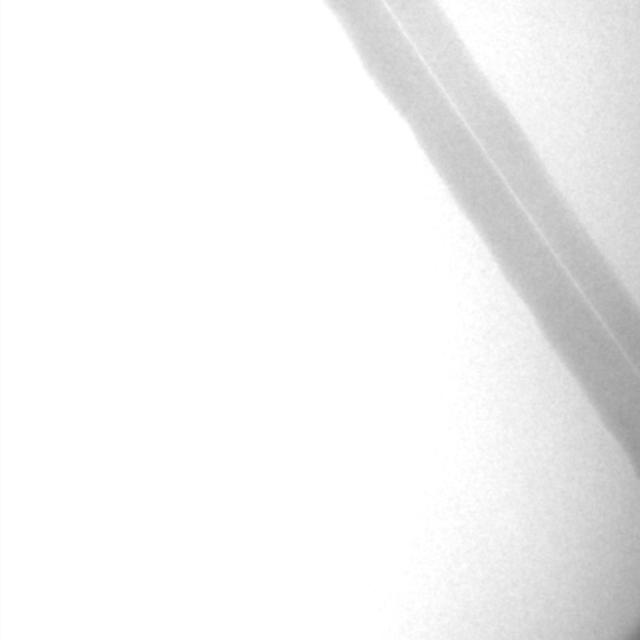broken arc: (385, 1, 636, 367)
